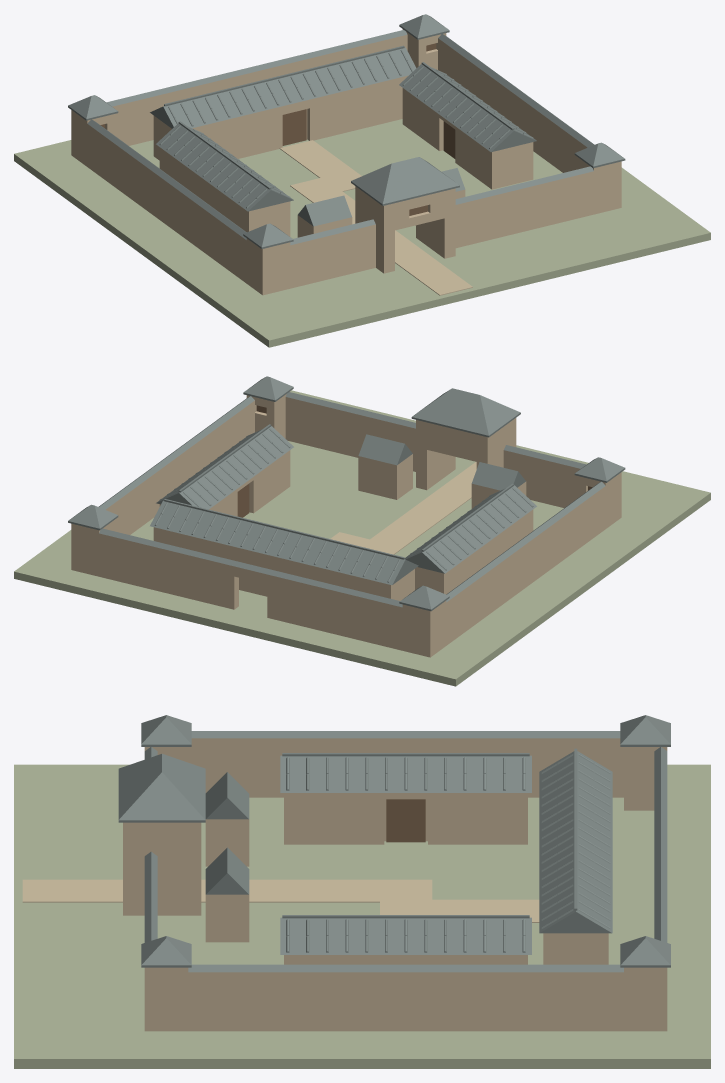
The model's file is courtyard-B.glb.
3 views of the same model, one above another, from view 1: azimuth 30°, elevation 25°; view 2: azimuth 150°, elevation 25°; view 3: azimuth 270°, elevation 25° (orthographic). The views are drawn at different scales.
Visible parts, largest first — view 1: C_ground, B_boundary_side_-1, B_rear_room_roof, B_boundary_frontR, B_boundary_side_1, B_rear_room_jamb_1, B_side_room_-1_roof, B_side_room_1_roof, B_boundary_frontL, B_gate_roof, B_rear_room_jamb_-1, B_side_room_-1_core (+30 smaller); view 2: C_ground, B_boundary_side_-1, B_rear_room_roof, B_boundary_rearR, B_boundary_rearL, B_boundary_side_1, B_boundary_frontR, B_rear_room_core, B_side_room_-1_roof, B_side_room_1_roof, C_arrival, B_gate_roof (+23 smaller); view 3: C_ground, B_boundary_side_1, B_boundary_side_-1, B_rear_room_roof, B_side_room_1_roof, B_side_room_-1_roof, C_arrival, B_gate_roof, B_side_room_-1_jamb_-1, B_side_room_-1_jamb_1, B_boundary_side_cap_1, B_gate_jamb_1 (+24 smaller).
Part boxes in pixels (box(x1,y1,x2,y2)): C_ground: box(14, 119, 710, 347); B_boundary_side_-1: box(87, 124, 246, 283); B_rear_room_roof: box(150, 47, 416, 128); B_boundary_frontR: box(455, 171, 593, 248); B_boundary_side_1: box(438, 38, 587, 172); B_rear_room_jamb_1: box(307, 75, 408, 140); B_side_room_-1_roof: box(156, 123, 293, 211); B_side_room_1_roof: box(399, 64, 536, 152); B_boundary_frontL: box(290, 224, 375, 288); B_gate_roof: box(351, 157, 459, 204); B_rear_room_jamb_-1: box(193, 106, 282, 158); B_side_room_-1_core: box(159, 147, 285, 232); C_ground: box(14, 390, 710, 686); B_boundary_side_-1: box(446, 486, 605, 645); B_rear_room_roof: box(150, 500, 418, 585); B_boundary_rearR: box(99, 533, 238, 609); B_boundary_rearL: box(267, 574, 402, 650); B_boundary_side_1: box(105, 400, 254, 534); B_boundary_frontR: box(285, 397, 415, 471); B_rear_room_core: box(153, 527, 412, 600); B_side_room_-1_roof: box(405, 485, 536, 573); B_side_room_1_roof: box(156, 426, 293, 509); C_arrival: box(370, 462, 476, 547); B_gate_roof: box(412, 388, 520, 435); C_ground: box(14, 764, 710, 1068); B_boundary_side_1: box(188, 972, 623, 1031); B_boundary_side_-1: box(188, 738, 623, 797); B_rear_room_roof: box(539, 751, 612, 933); B_side_room_1_roof: box(280, 917, 531, 954); B_side_room_-1_roof: box(280, 755, 531, 792); C_arrival: box(22, 879, 379, 902); B_gate_roof: box(118, 753, 205, 820); B_side_room_-1_jamb_-1: box(284, 793, 384, 844); B_side_room_-1_jamb_1: box(428, 793, 527, 844); B_boundary_side_cap_1: box(188, 964, 623, 972); B_gate_jamb_1: box(123, 860, 201, 915).
Size of the model in its own units: 16 by 3.51 by 16.
